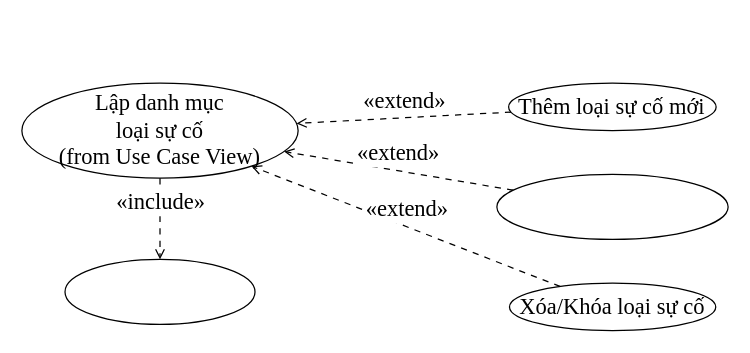
Some shapes in this 750 by 353 pixel diagram are drawn without their labels. The centre of each missing label's shape, as x and y in pixels:
"Cập nhật thông tin loại sự cố" goes at (612,206).
"Xem danh sách loại sự cố" goes at (159,291).
